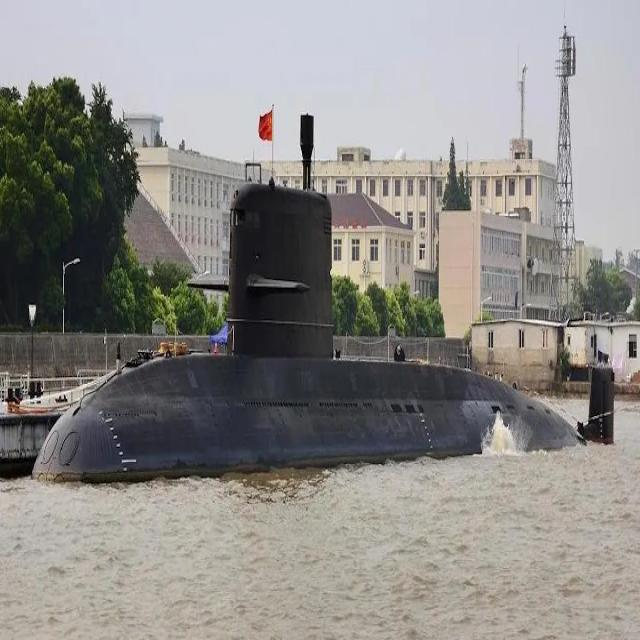Submarine-Yuan-Class-CHI: (33, 96, 619, 481)
